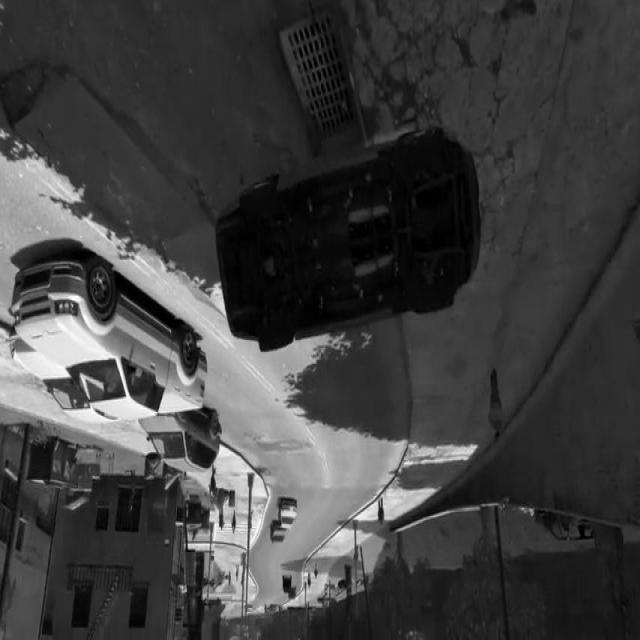severe: (211, 128, 482, 364)
